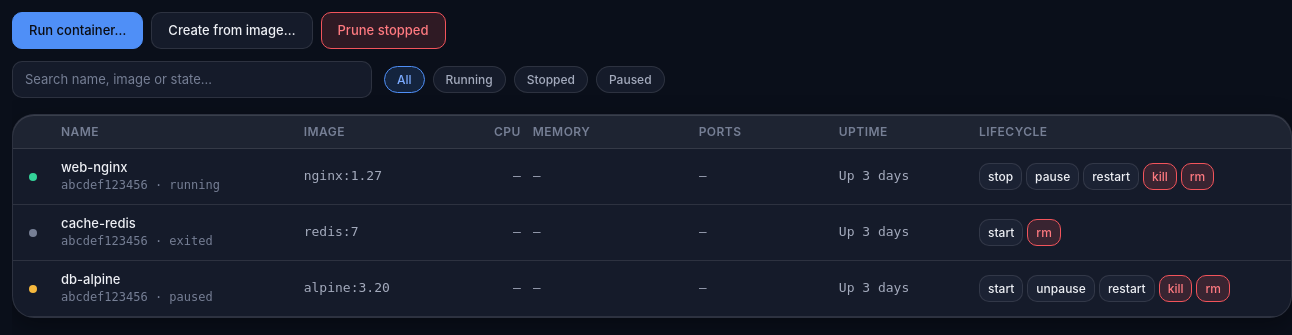
Test: ContainersScreen — text/state filtering (REQ-23) › narrows to paused containers when the Paused chip is active
Click the button "Paused". click: x=630, y=79
box: [596,66,665,93]
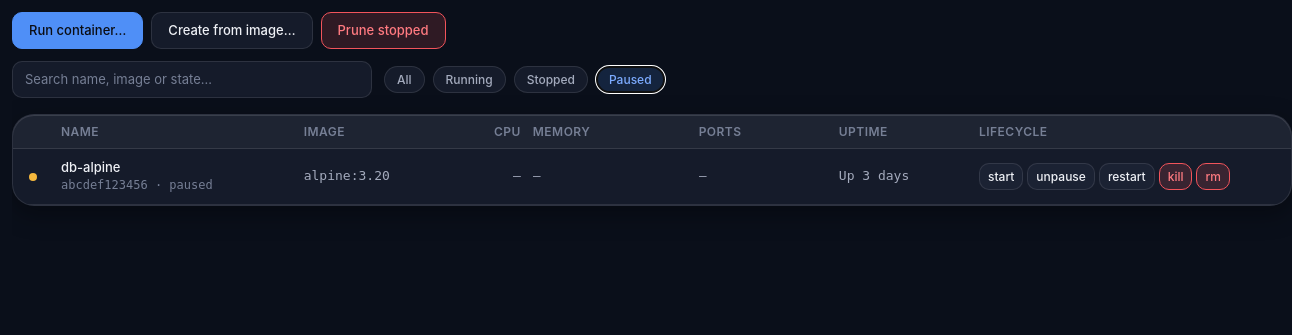
expect the text "db-alpine" is shown: met, box [61,160,120,176]
expect the text "web-nginx" is gone: met
expect the text "cache-redis" is gone: met
